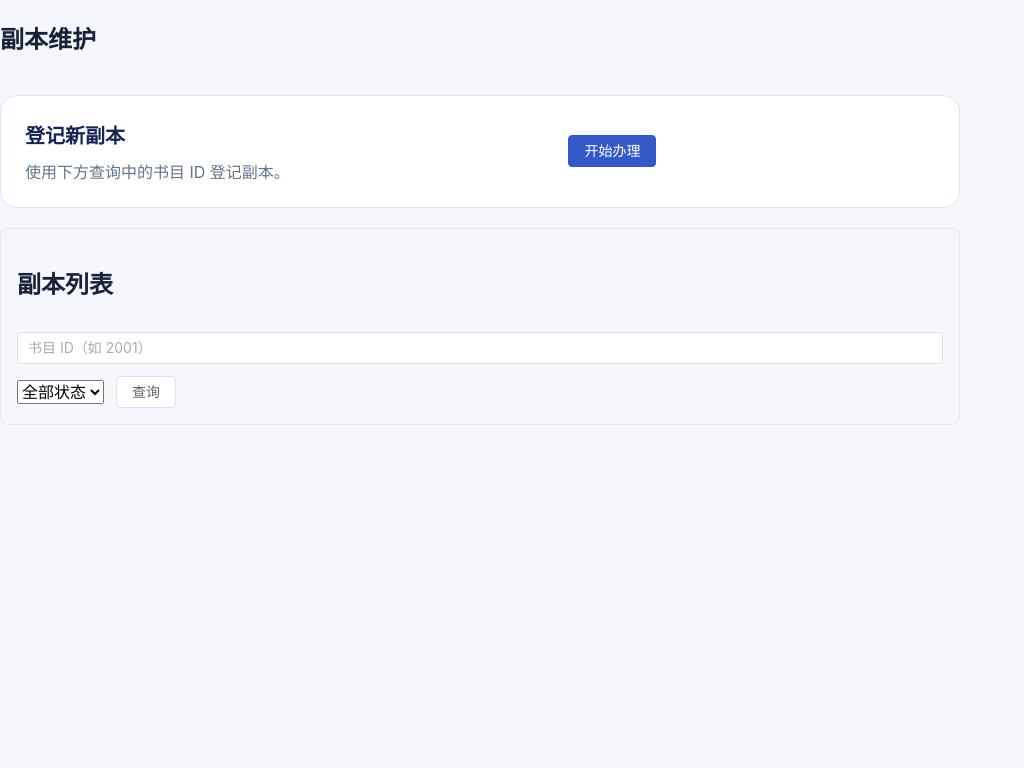
Test: CopyAdminView › registers a new copy for the filtered title
Step 1. Type "2001" into the field with test id "copy-filter-title" → (480, 348), box [28, 333, 932, 363]
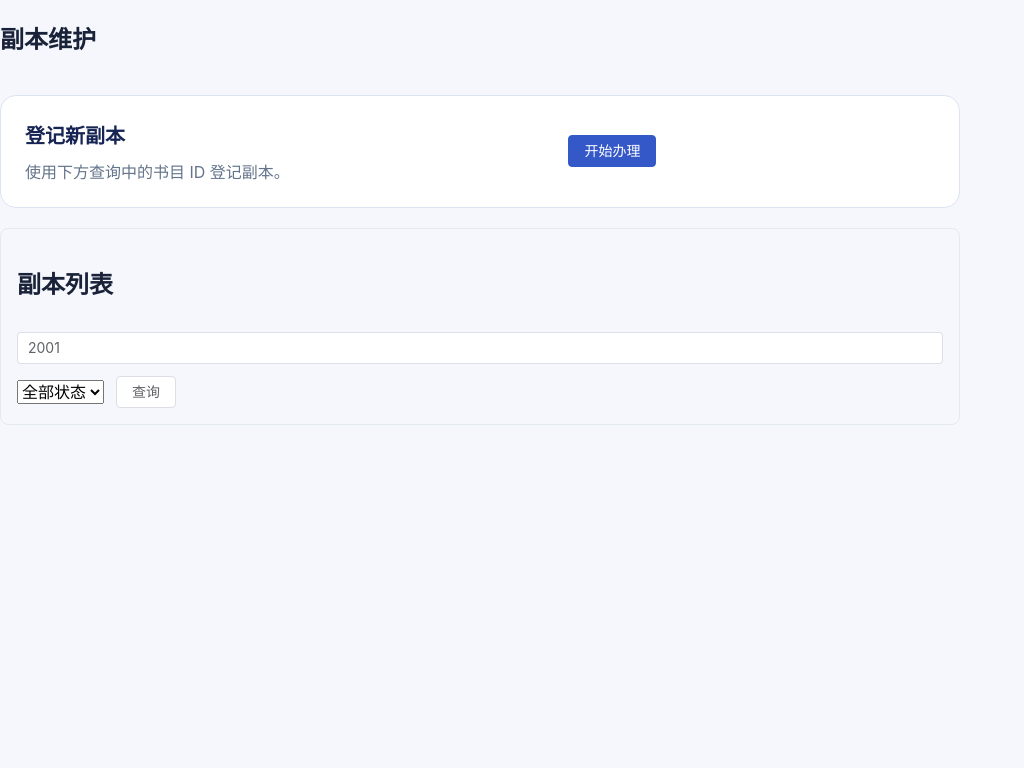
Step 2. Click the button with test id "copy-create-open" → (612, 151), box [568, 135, 656, 167]
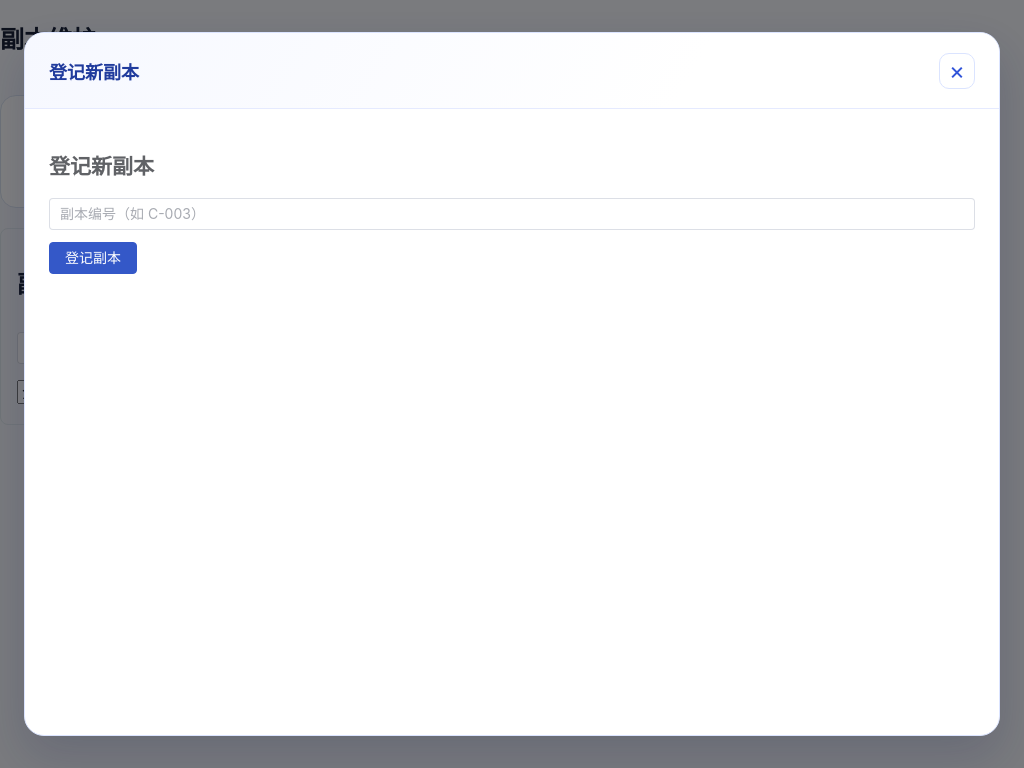
Step 3. Type "C-003" into the field with test id "create-copy-no" → (512, 214), box [60, 199, 964, 229]
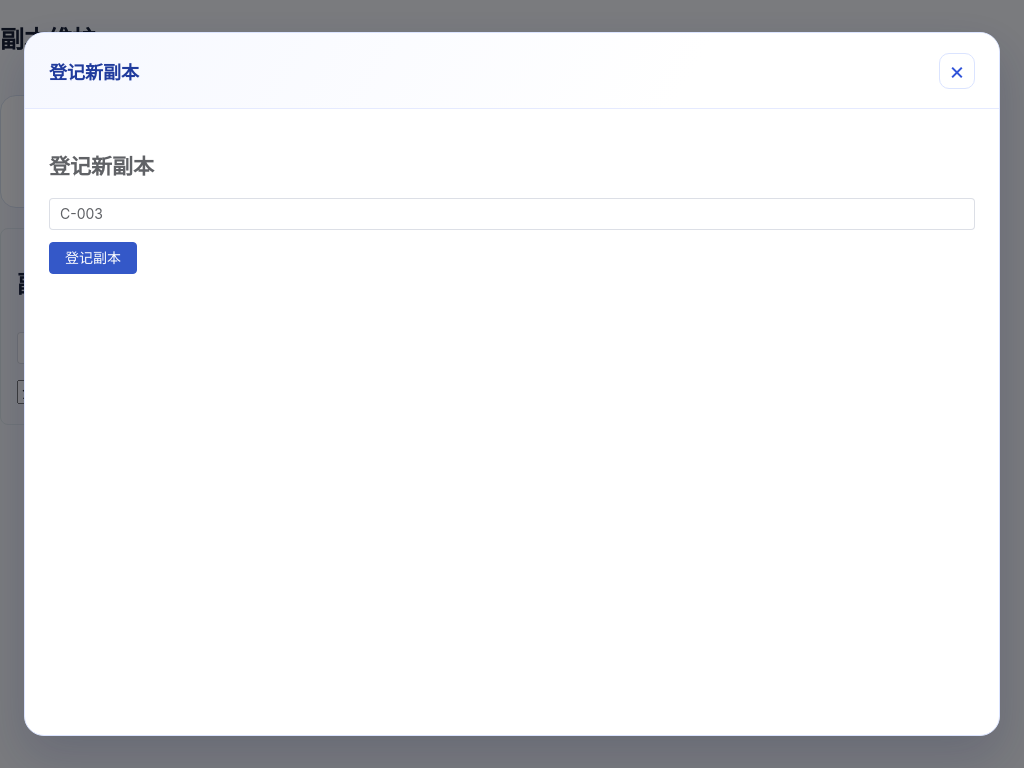
Step 4. Submit the form with test id "create-copy-form", box [49, 198, 975, 274]
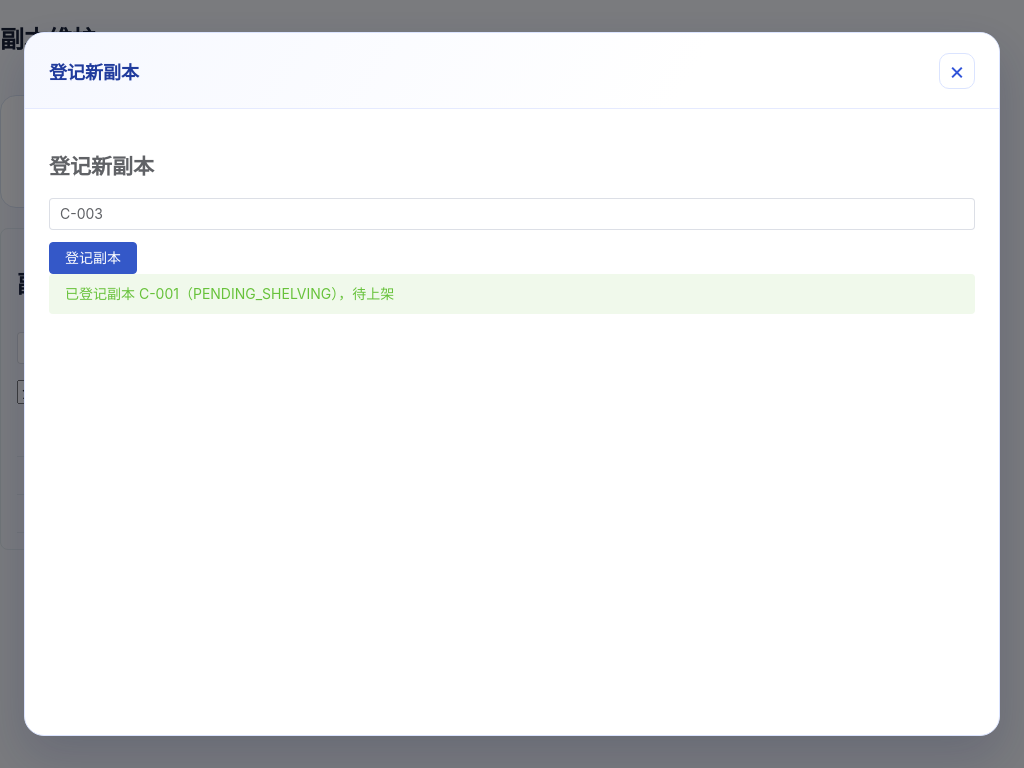
Expected: the element with test id "create-copy-success" is shown, [49, 274, 975, 314]
Expected: the element with test id "create-copy-success" shows "C-001", [65, 285, 394, 302]
Expected: the element with test id "create-copy-success" shows "PENDING_SHELVING", [65, 285, 394, 302]
